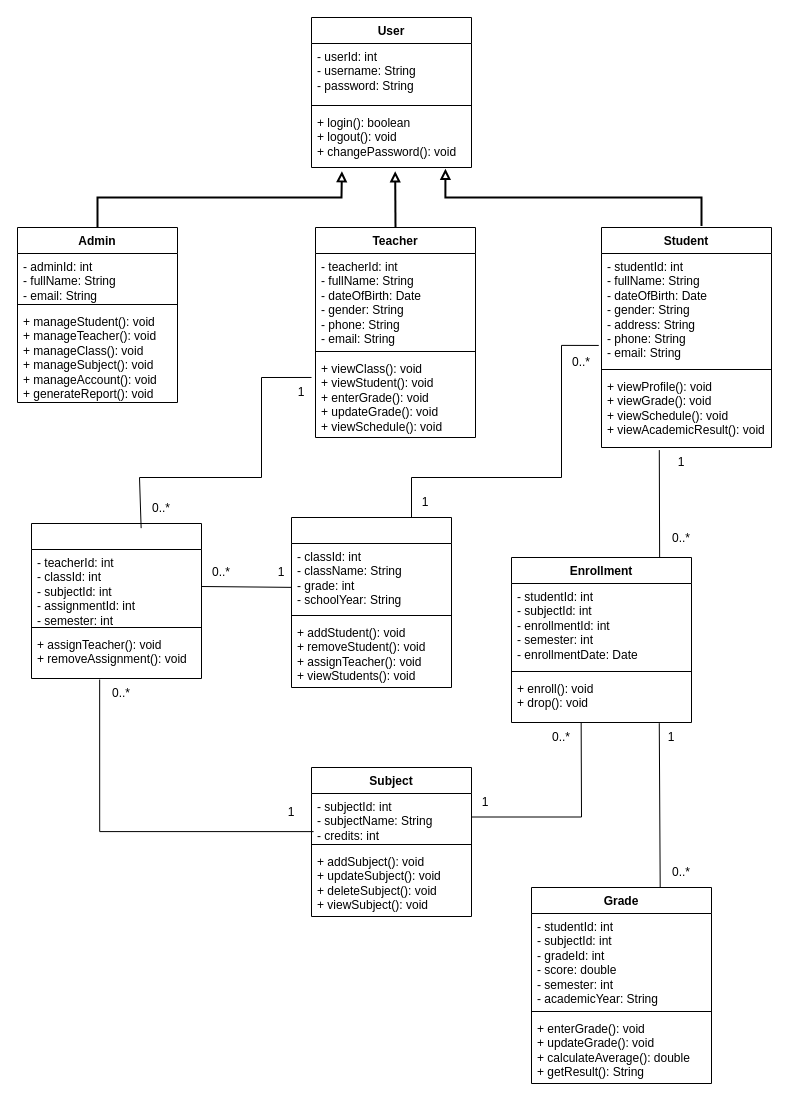
Image size: 789x1104. Some labels were removed from this diagram. The shapes that lost their labels are listed below. From the top down, each one's box as (x1, y1, x2, y2) in pixels, then its label:
(30, 522, 202, 678): TeachingAssignment
(290, 516, 452, 688): ClassRoom
